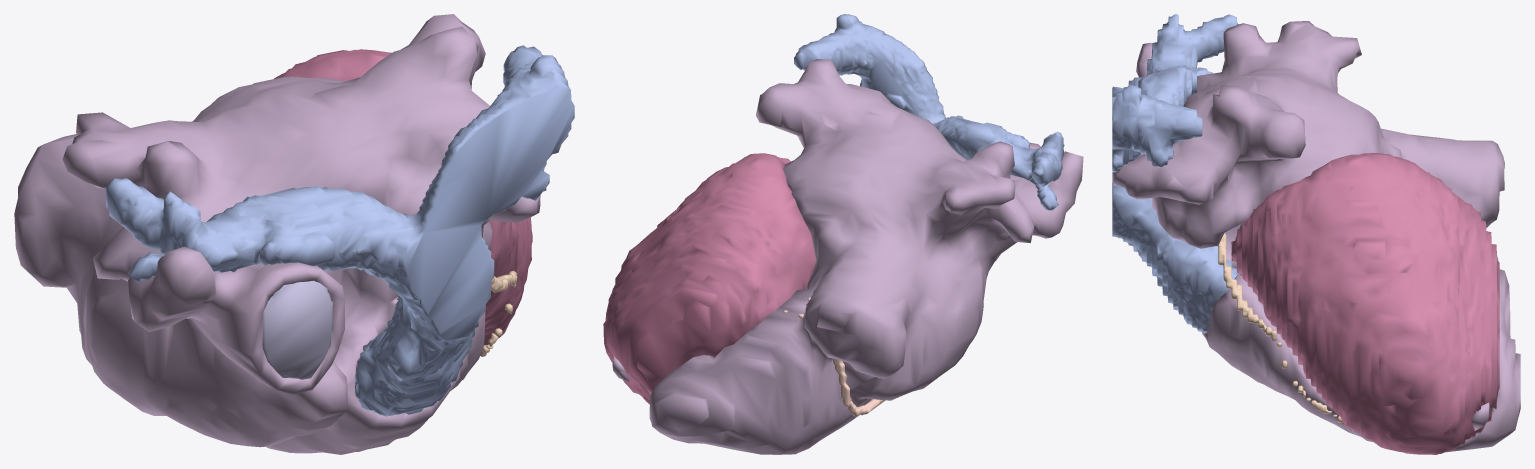
3 renders of one model, left to right at view 1: azimuth 30°, elevation 25°; view 2: azimuth 150°, elevation 25°; view 3: azimuth 270°, elevation 25°, orthographic. The views are drawn at different scales.
Parts seen in each view (by area): view 1: heart-wall, pulmonary-artery, right-atrium, myocardium, left-coronary-artery; view 2: heart-wall, myocardium, pulmonary-artery, right-coronary-artery; view 3: myocardium, heart-wall, pulmonary-artery, left-coronary-artery.
Part boxes in pixels (<box>): heart-wall: <box>14,14,544,454</box>; pulmonary-artery: <box>105,45,574,416</box>; right-atrium: <box>262,280,333,379</box>; myocardium: <box>274,49,532,345</box>; left-coronary-artery: <box>480,270,517,356</box>; heart-wall: <box>612,59,1083,454</box>; myocardium: <box>603,153,816,404</box>; pulmonary-artery: <box>794,14,1064,210</box>; right-coronary-artery: <box>783,297,885,416</box>; myocardium: <box>1231,153,1499,454</box>; heart-wall: <box>1112,21,1520,451</box>; pulmonary-artery: <box>1112,14,1239,333</box>; left-coronary-artery: <box>1215,233,1353,430</box>.
Bounding box in the file's own units: 138 × 118 × 123.
